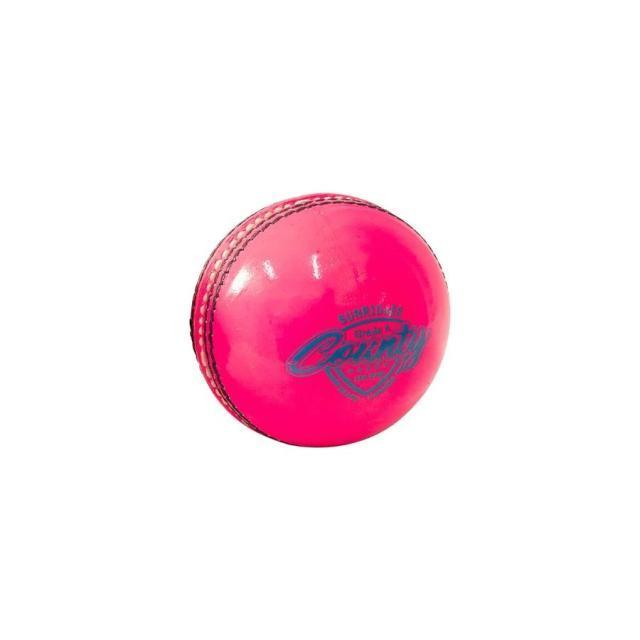cricket ball: (189, 193, 452, 447)
